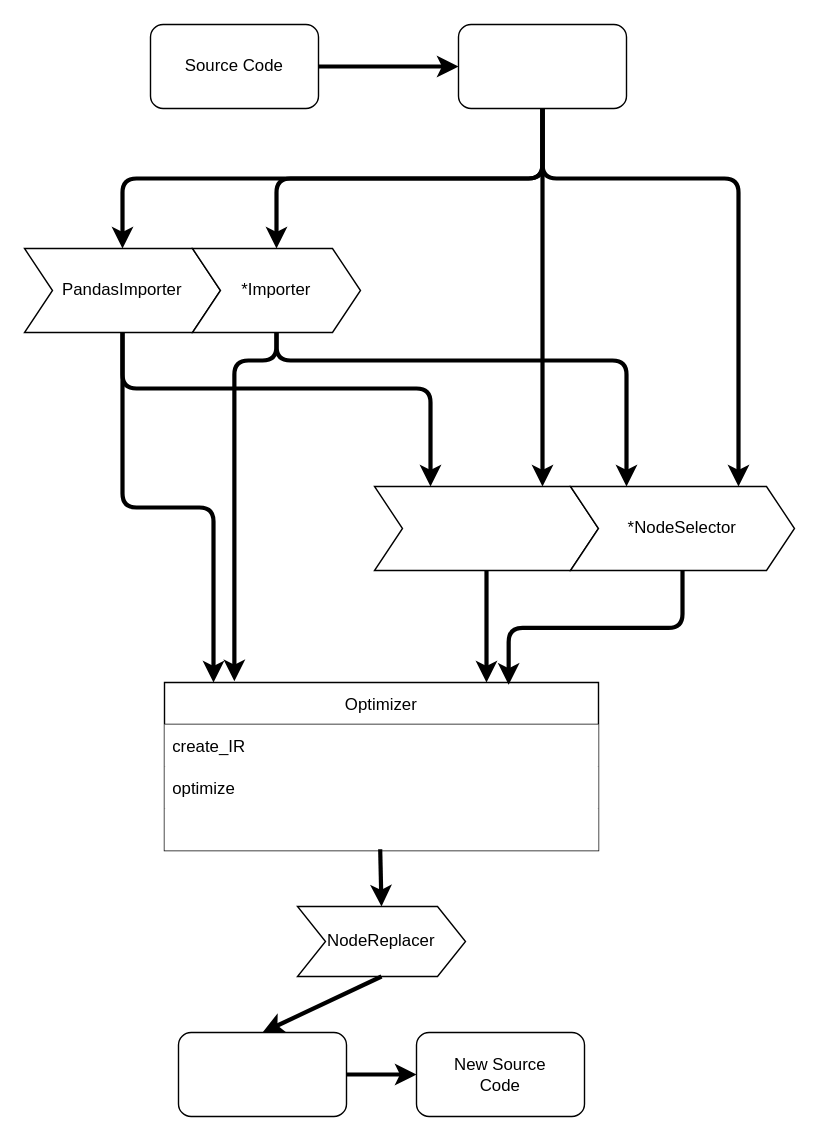
Image size: 819x1141. Some labels were removed from this diagram. Each missing label, with the centre of its shape:
"CST" goes at point (541, 65).
"generate_new_nodes" goes at point (381, 829).
"New CST" goes at point (261, 1073).
"PandasNodeSelector" goes at point (485, 527).
